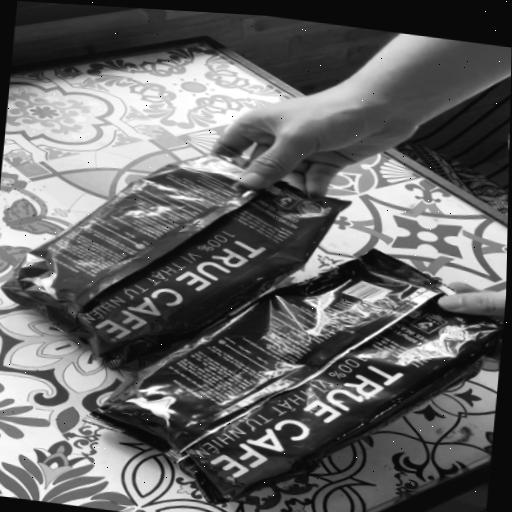cafe_hat: (85, 249, 503, 504)
cafe_xay: (1, 149, 349, 368)
